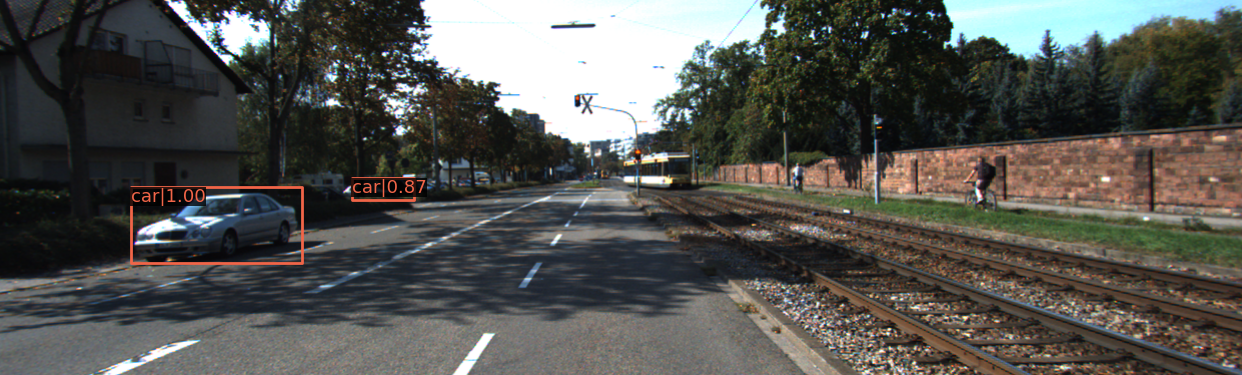car: (134, 190, 302, 268)
